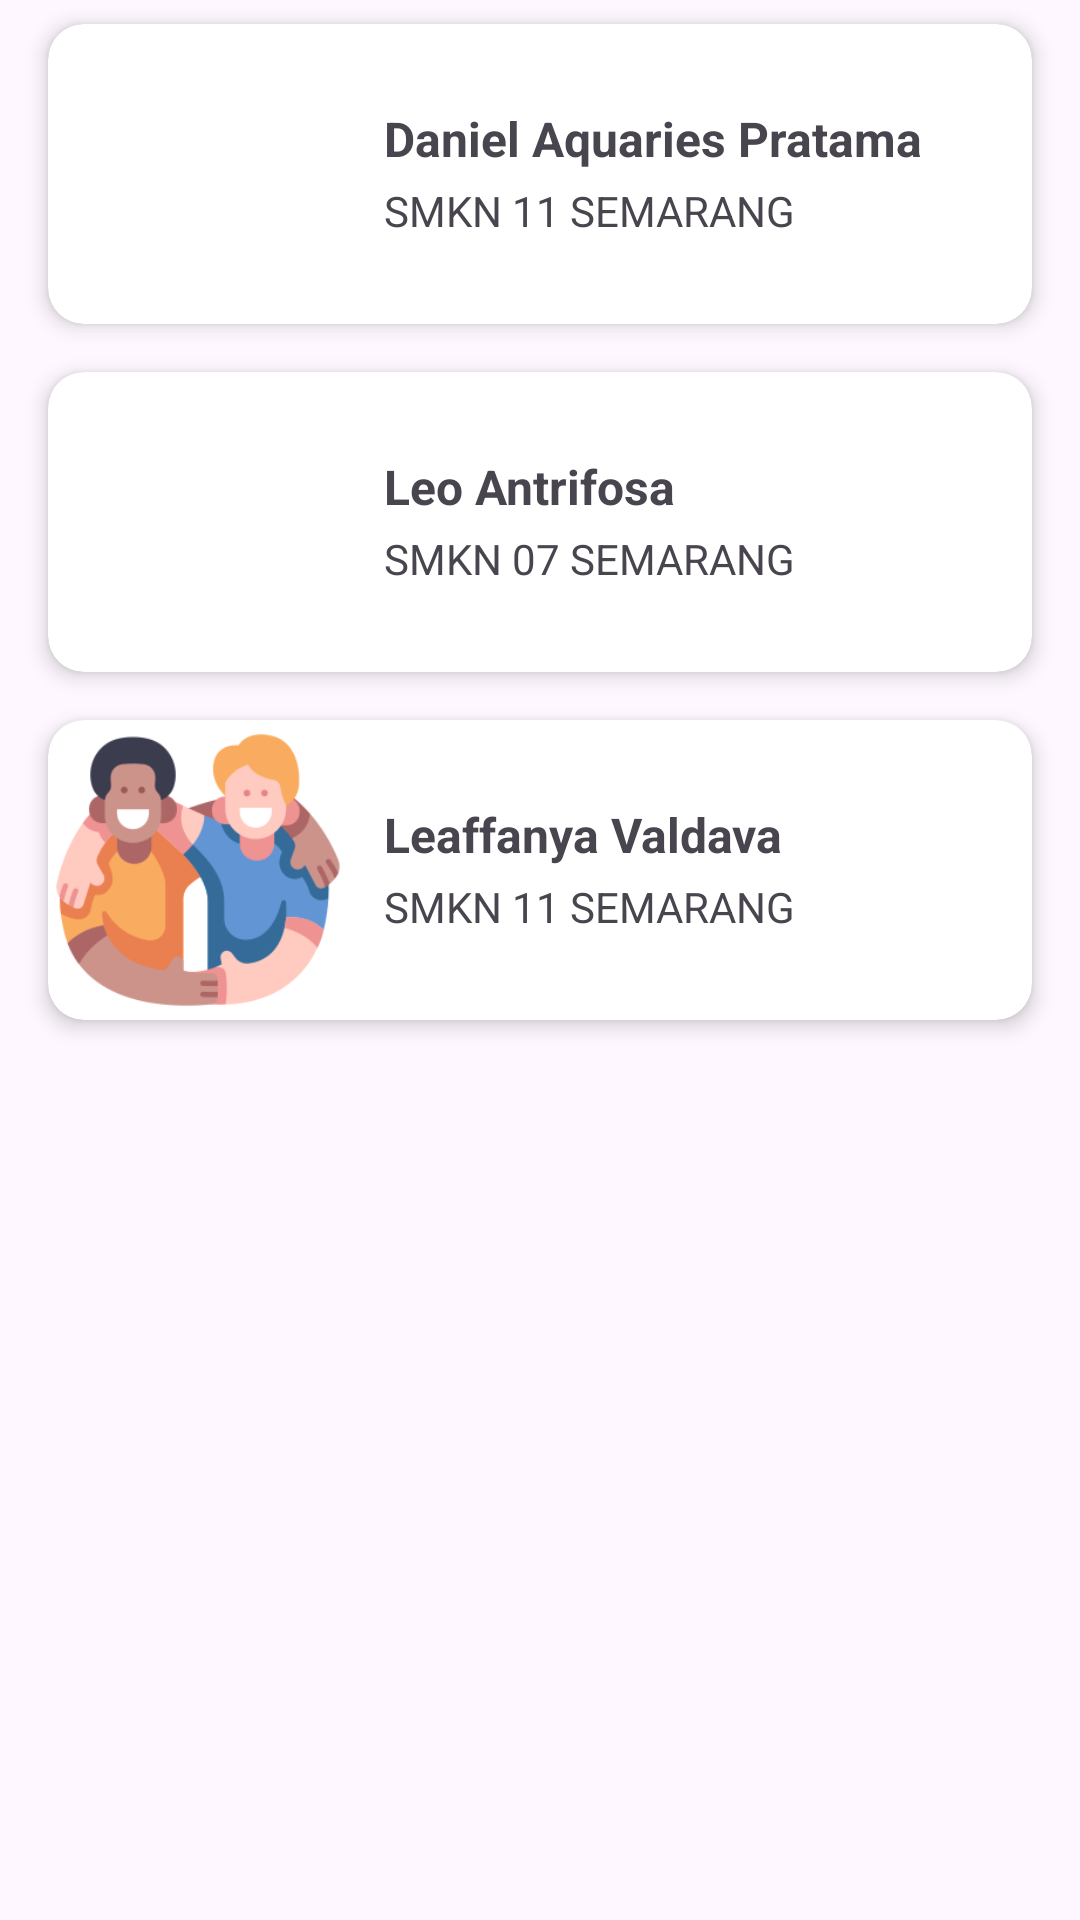

Where to tap for icons on this 1080 x 1920 app screen, as (x,y):
friend app: (198,863)
